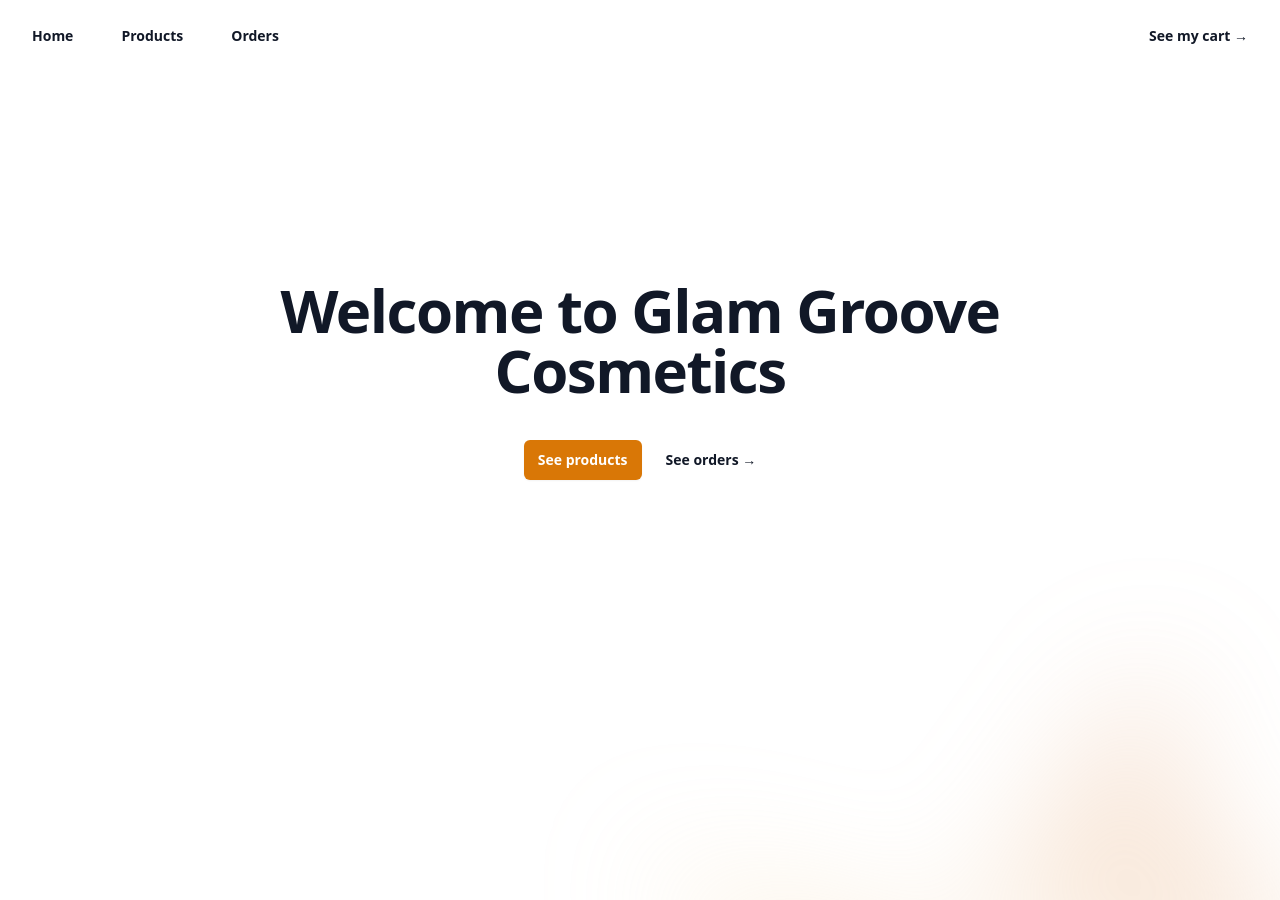
Test case: Home page › should allow the user to navigate to See my cart page
Click the link to "/cart" at (1199, 36), box [1149, 24, 1248, 48]
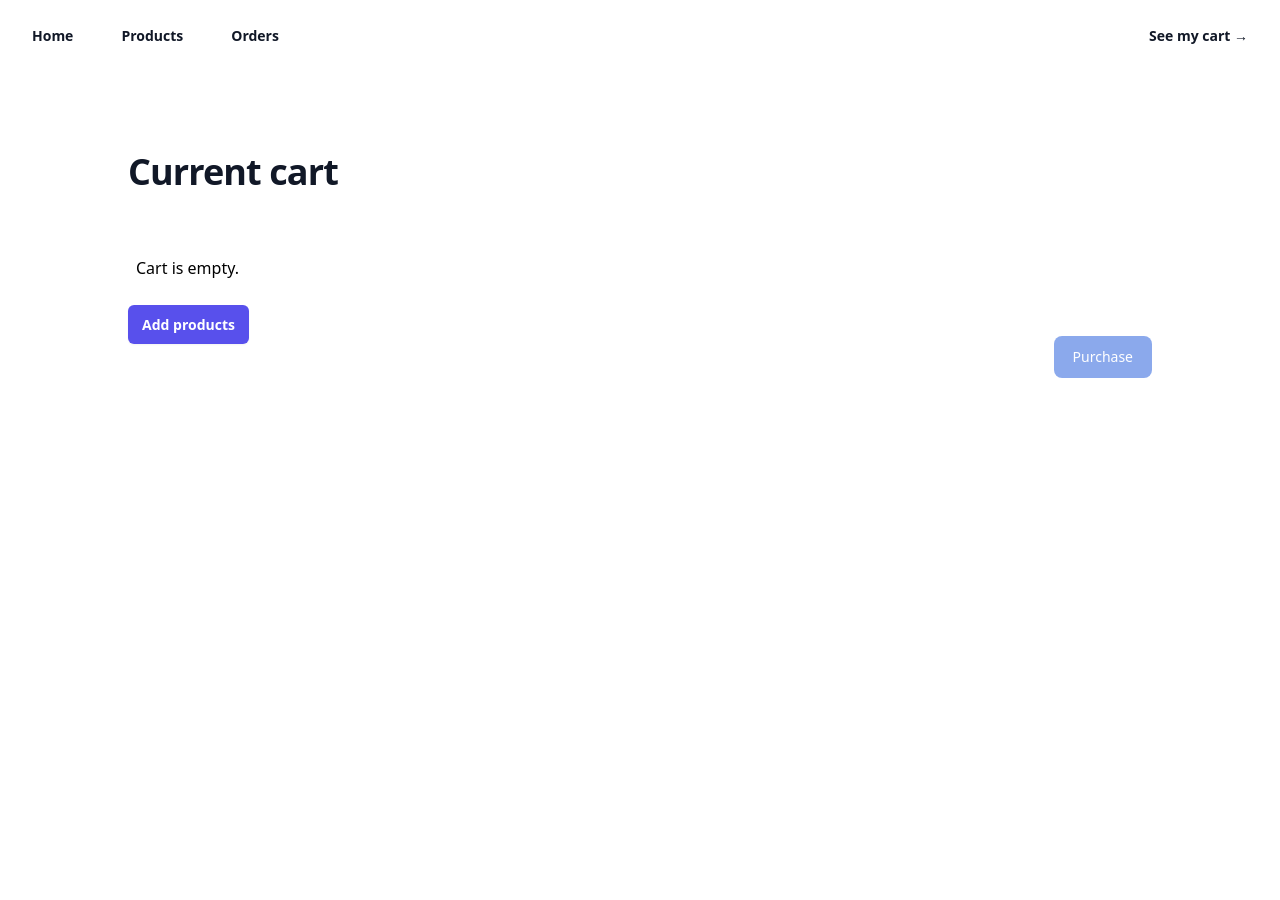
Expected: the heading "Current cart" is shown, [128, 147, 338, 196]
